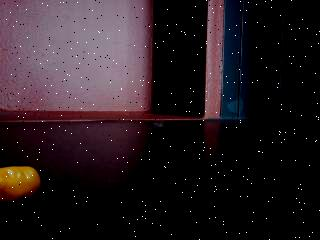Potato: (0, 165, 41, 205)
